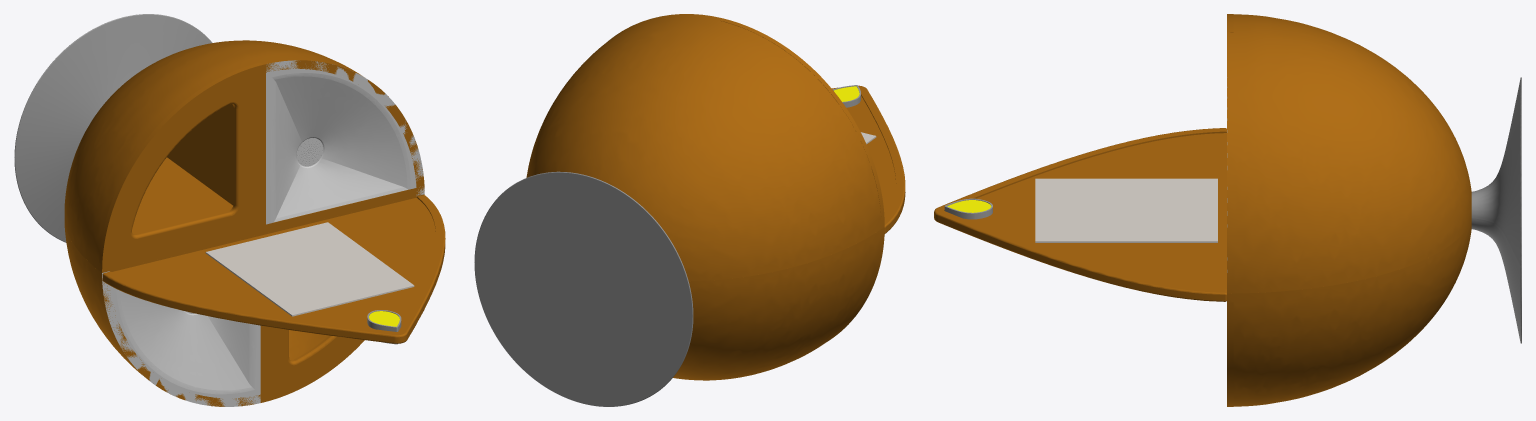
The model's file is 2Drop.glb.
The picture shows the model from 3 angles, left to right: view 1: azimuth 30°, elevation 25°; view 2: azimuth 150°, elevation 25°; view 3: azimuth 270°, elevation 25°; orthographic projection. The views are drawn at different scales.
Parts seen in each view (by area): view 1: empty_4, empty_9, empty_5, empty_17, empty_2, empty_21, empty_12, empty_3, empty_6, empty_16, empty_15, empty_14 (+3 smaller); view 2: empty_5, empty_17, empty_16, empty_4, empty_2; view 3: empty_5, empty_16, empty_4, empty_21, empty_17, empty_15.
Part boxes in pixels (x1,y1,x2,y2): empty_4: [102, 195, 445, 343]; empty_9: [266, 69, 416, 224]; empty_5: [64, 40, 424, 272]; empty_17: [14, 14, 212, 242]; empty_2: [99, 62, 263, 264]; empty_21: [205, 222, 414, 316]; empty_12: [111, 286, 260, 398]; empty_3: [110, 157, 416, 270]; empty_6: [167, 72, 265, 233]; empty_16: [64, 194, 424, 406]; empty_15: [263, 326, 364, 402]; empty_14: [102, 271, 260, 406]; empty_5: [526, 14, 884, 281]; empty_17: [474, 171, 693, 406]; empty_16: [673, 227, 884, 380]; empty_4: [832, 85, 905, 233]; empty_2: [720, 18, 884, 220]; empty_5: [1227, 14, 1471, 293]; empty_16: [1227, 219, 1471, 406]; empty_4: [934, 128, 1226, 301]; empty_21: [1035, 178, 1217, 242]; empty_17: [1471, 77, 1521, 343]; empty_15: [1227, 302, 1233, 406].
Bounding box in the file's own units: 1200 × 1200 × 1795.
